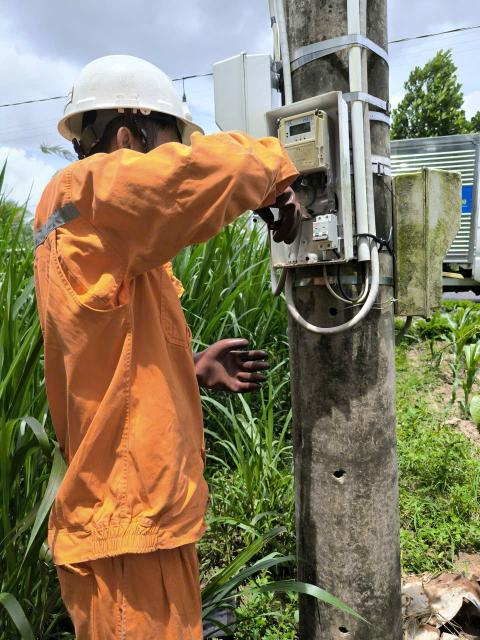gloves: (182, 327, 281, 408), (231, 173, 336, 245)
helmet: (33, 30, 215, 146)
